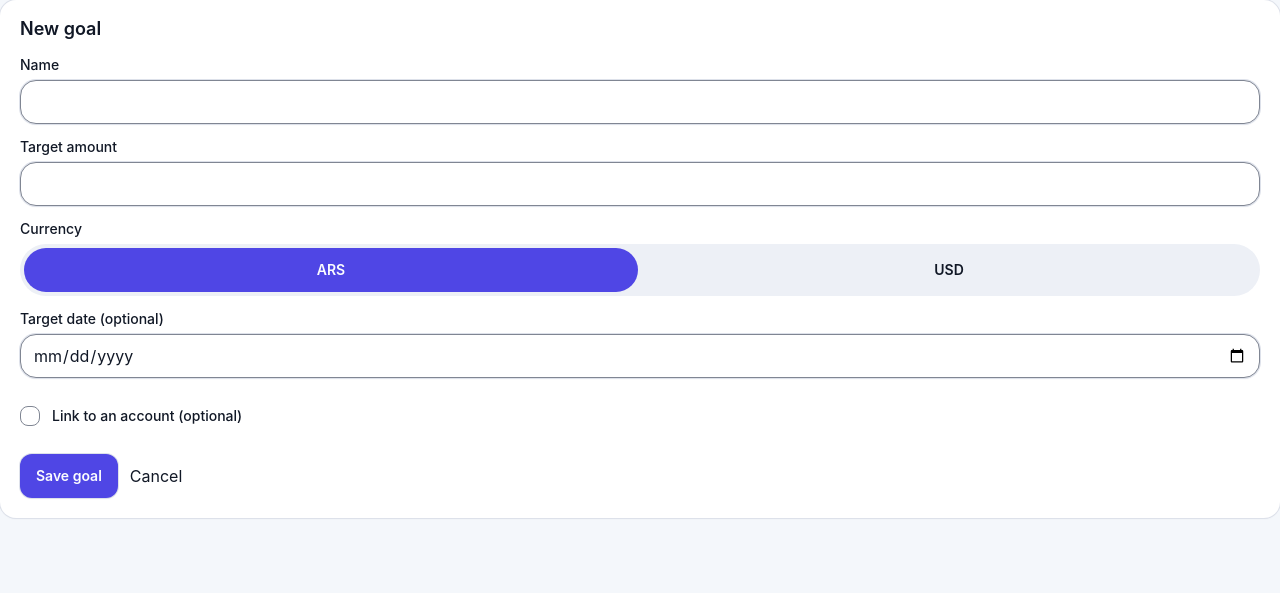
Test: CreateGoalContainer › shows a field error and sends nothing for Trip / 0
The width and height of the screenshot is (1280, 593).
In the field labelled "Name": point(640, 102) [20,80,1260,124], type "Trip"
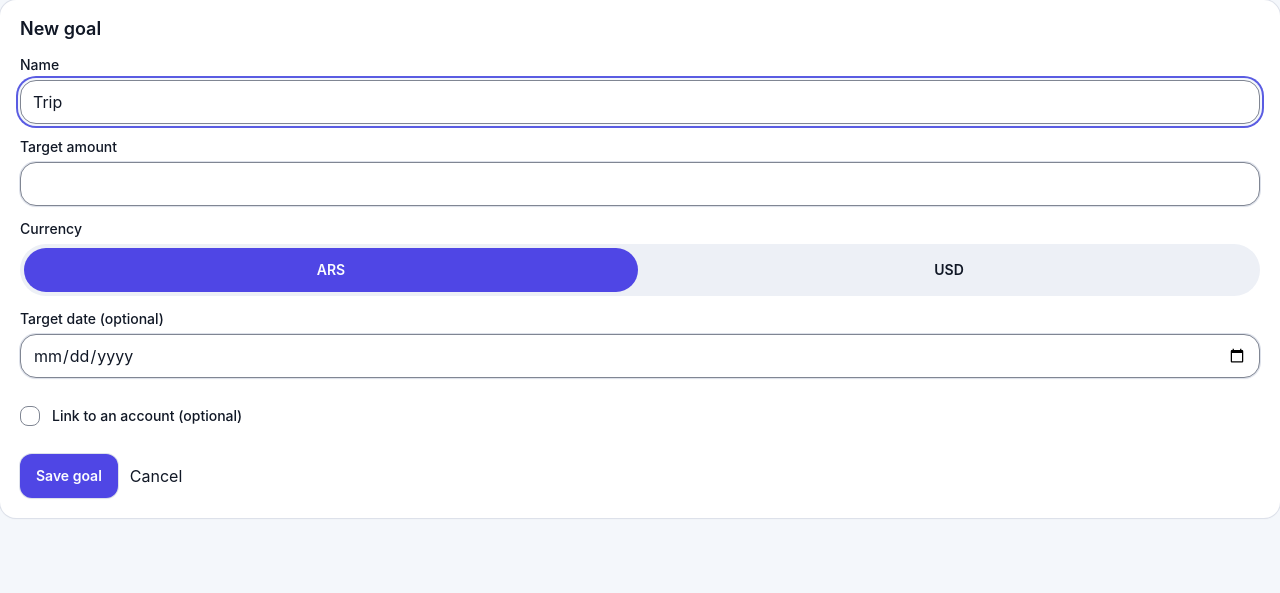
In the field labelled "Target amount": point(640, 184) [20,162,1260,206], type "0"
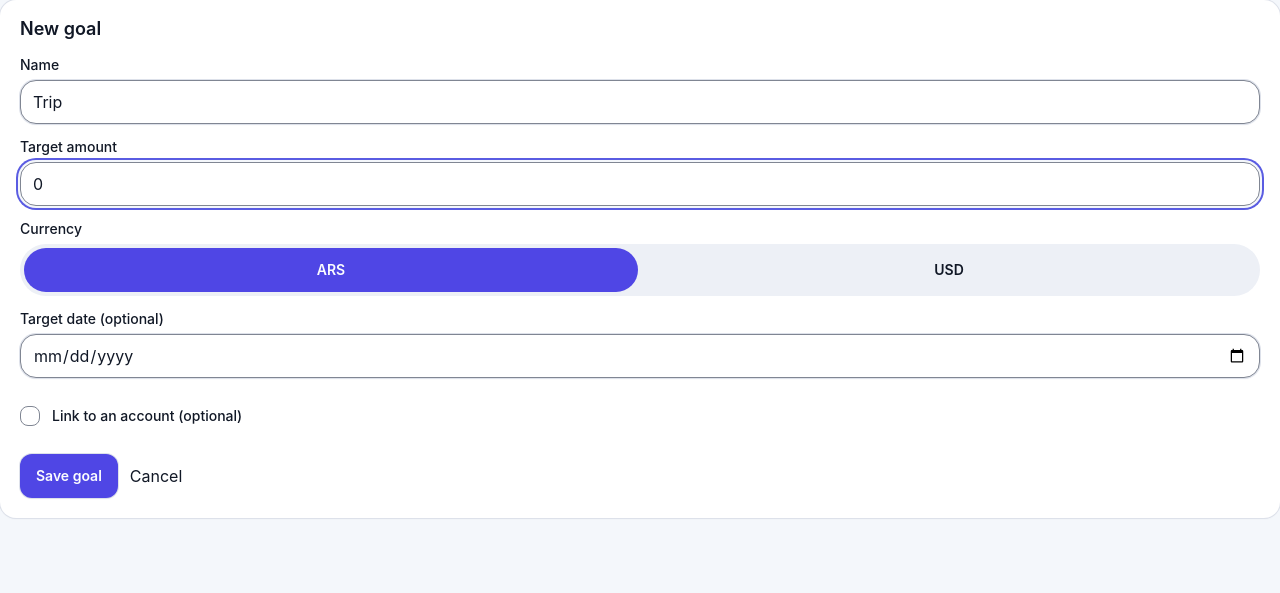
Click the button "Save goal": point(69, 476) [20,454,118,498]
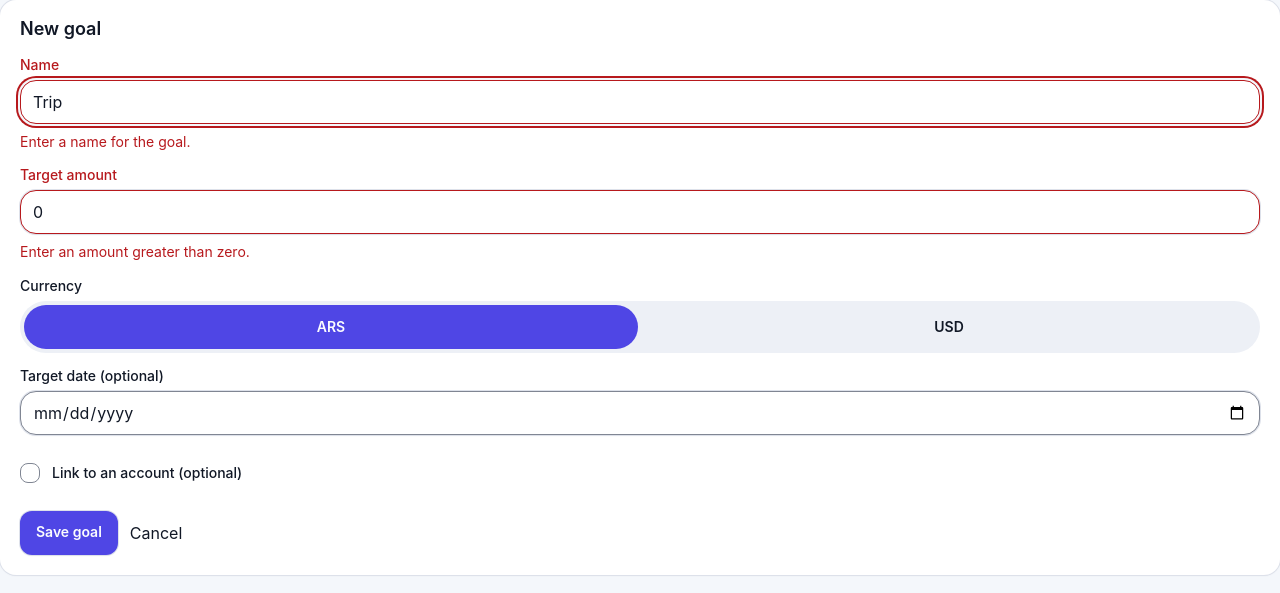
Result: the text "Enter an amount greater than zero." is shown at [20,243,250,260]
